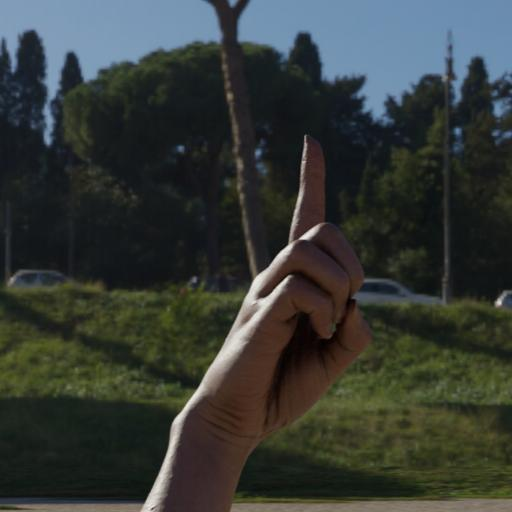D: (199, 107, 430, 492)
